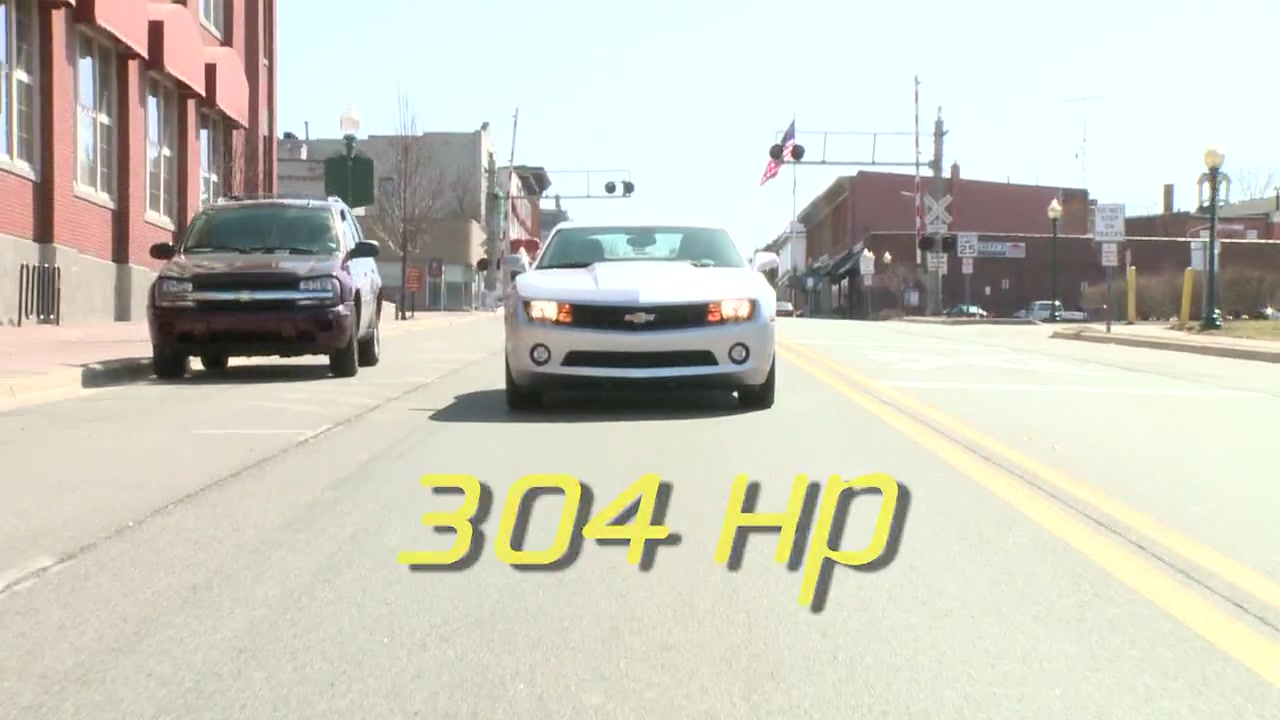car: (495, 217, 787, 413)
